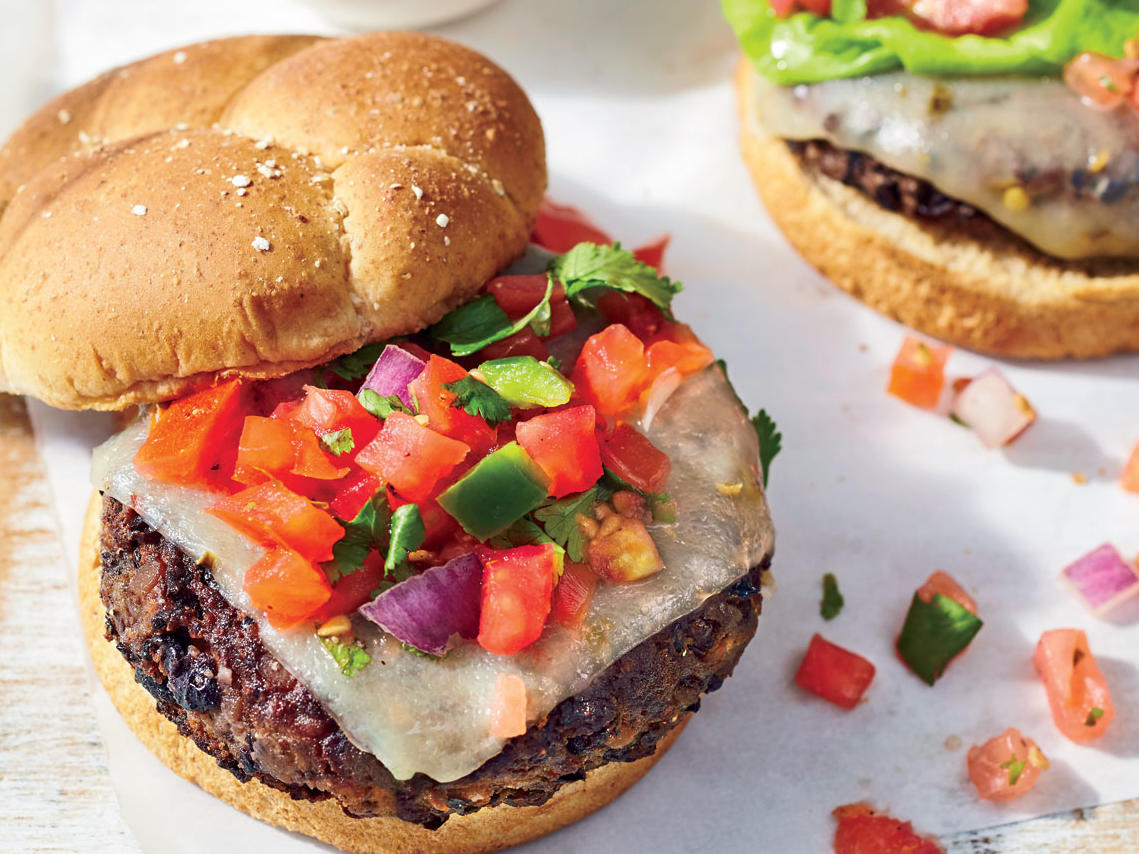hamburger_buns: (1, 21, 578, 405)
